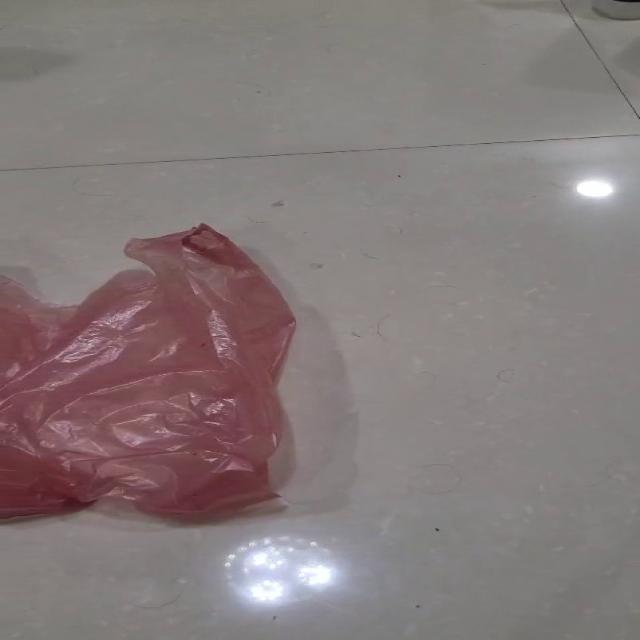plastic: (0, 222, 297, 520)
